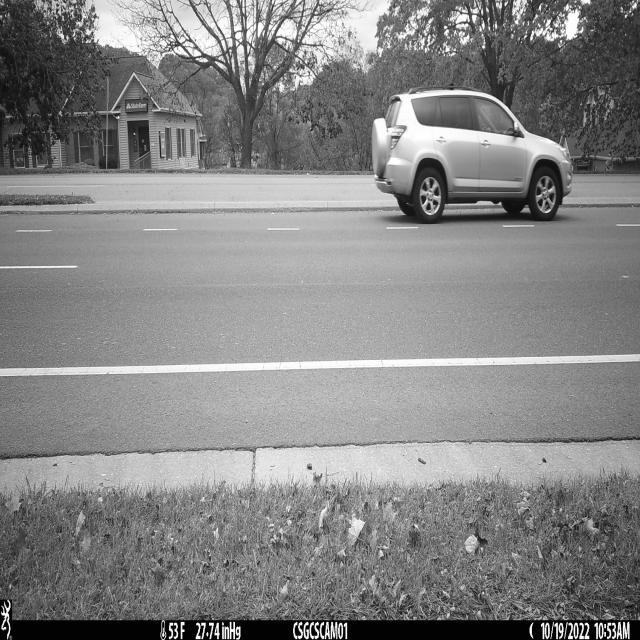SUV: (372, 88, 574, 224)
